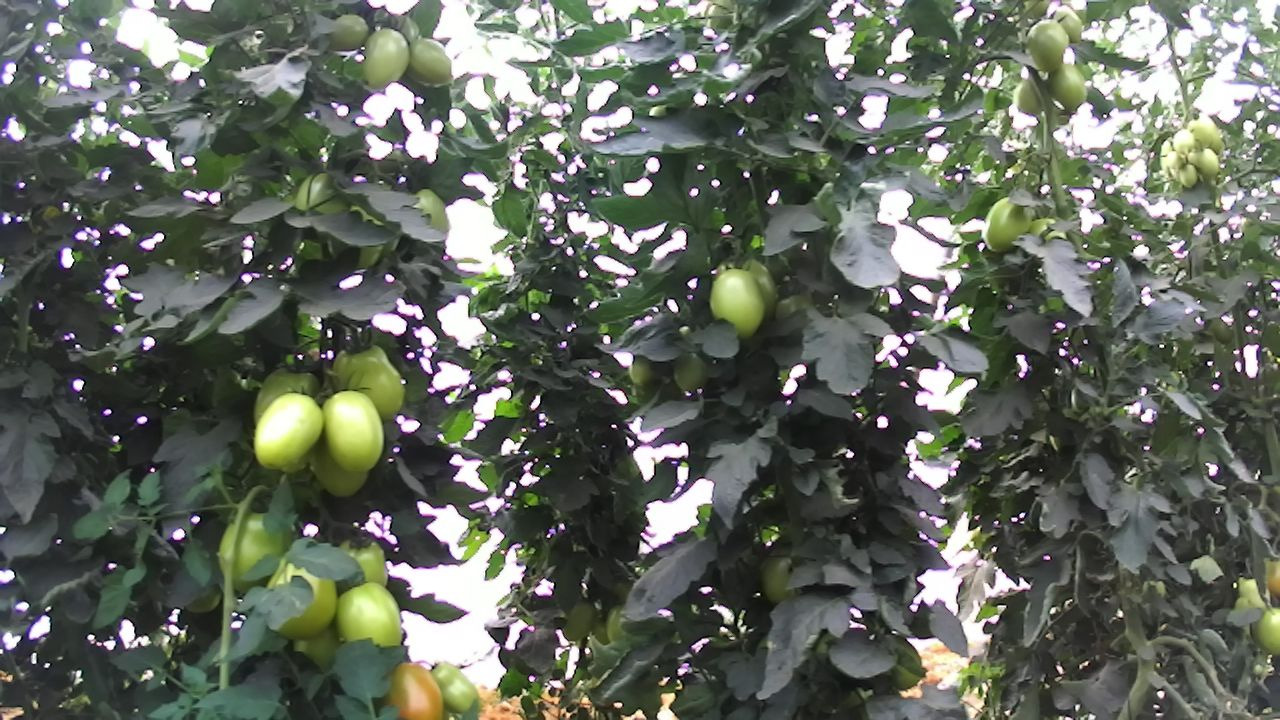tomato: (326, 338, 411, 426), (249, 388, 329, 475), (328, 575, 413, 654), (320, 384, 388, 479), (707, 264, 769, 341), (381, 660, 449, 720), (428, 657, 491, 719), (359, 22, 412, 91), (978, 194, 1035, 254), (1018, 18, 1073, 74), (403, 36, 457, 90), (1046, 60, 1091, 113), (323, 10, 372, 53), (559, 595, 600, 646), (1051, 1, 1084, 47), (1190, 146, 1222, 177), (1171, 125, 1197, 157), (1177, 163, 1200, 188)
